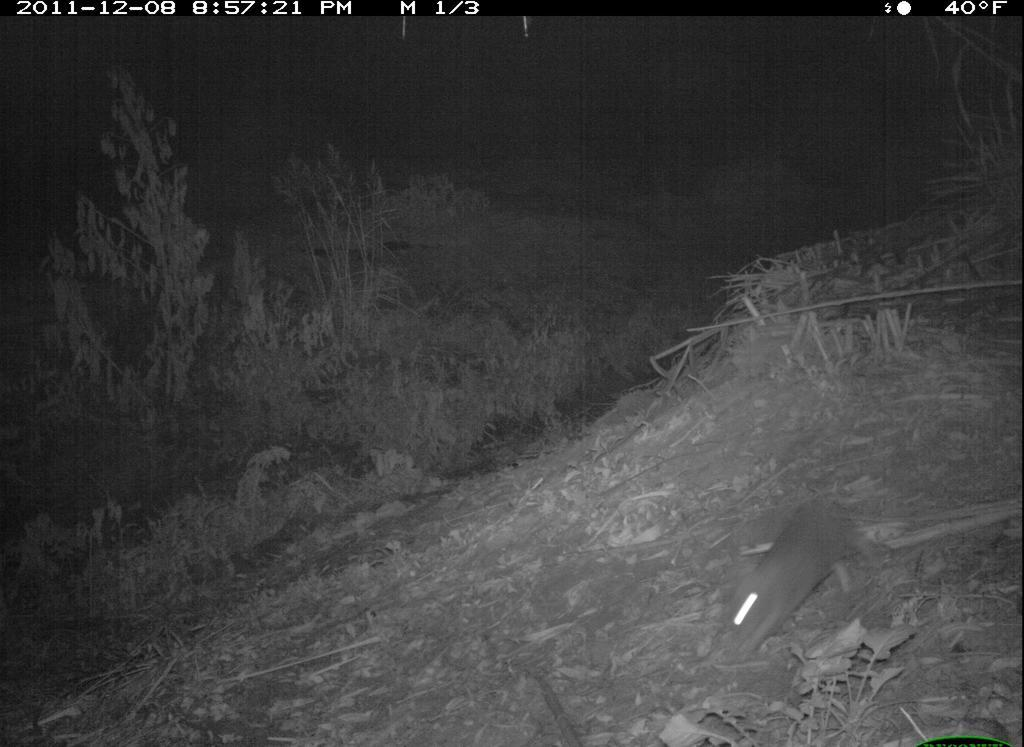rabbit: (701, 481, 891, 666)
